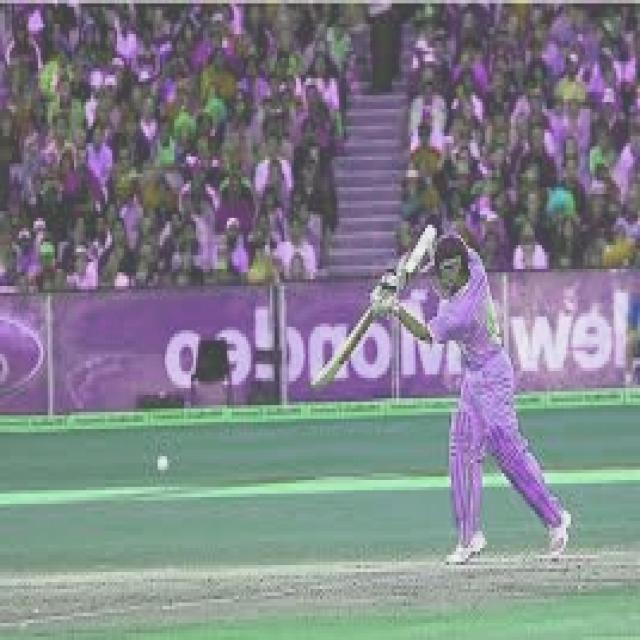bat: (292, 303, 371, 403)
toe: (299, 376, 327, 395)
